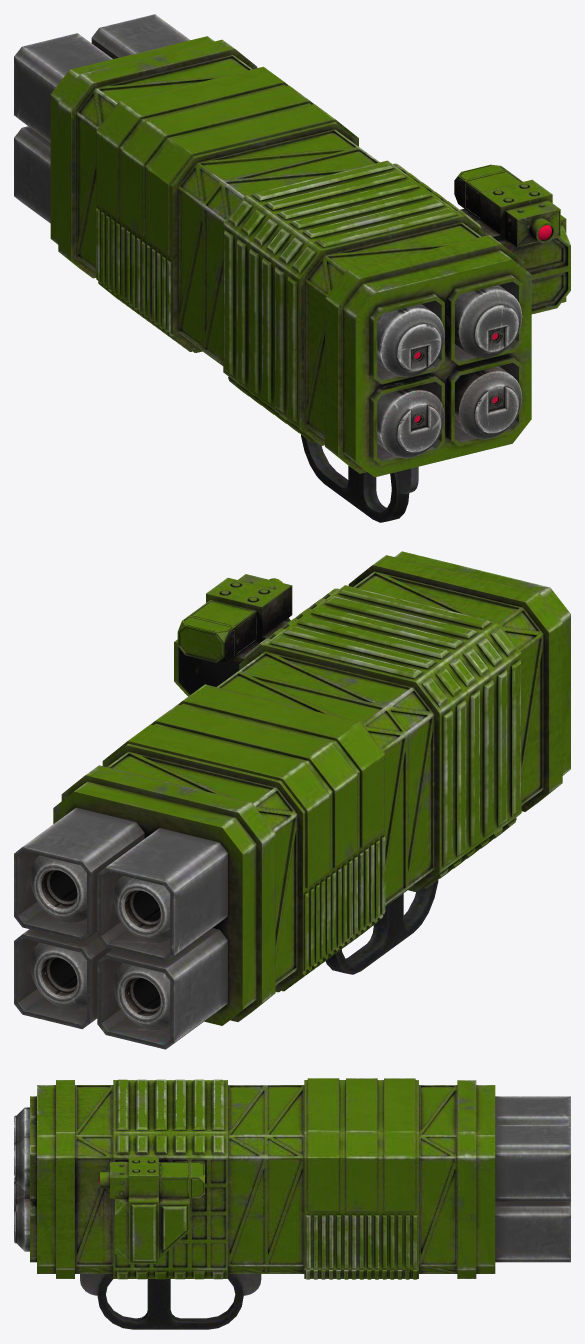
Rendered from launcher.glb.
3 views of the same model, one above another, from view 1: azimuth 30°, elevation 25°; view 2: azimuth 150°, elevation 25°; view 3: azimuth 270°, elevation 25° (orthographic). The views are drawn at different scales.
Visible parts, largest first — view 1: xm222, rocket_3, rocket_1, rocket_2, rocket_0; view 2: xm222, rocket_3, rocket_1, rocket_0, rocket_2, display; view 3: xm222, rocket_0, rocket_2, rocket_1.
Part boxes in pixels (x1,y1,x2,y2): xm222: (14, 14, 570, 522); rocket_3: (377, 385, 444, 458); rocket_1: (377, 304, 444, 377); rocket_2: (455, 366, 522, 439); rocket_0: (455, 285, 522, 358); xm222: (14, 551, 570, 1049); rocket_3: (113, 963, 170, 1029); rocket_1: (113, 875, 170, 942); rocket_0: (30, 855, 86, 922); rocket_2: (30, 942, 86, 1009); display: (201, 659, 240, 686); xm222: (30, 1078, 570, 1329); rocket_0: (14, 1135, 29, 1190); rocket_2: (14, 1196, 29, 1251); rocket_1: (14, 1107, 29, 1144).
Size of the model in its own units: 3.2 by 3.23 by 7.29.
Materials: 3 (2 with a texture image).
